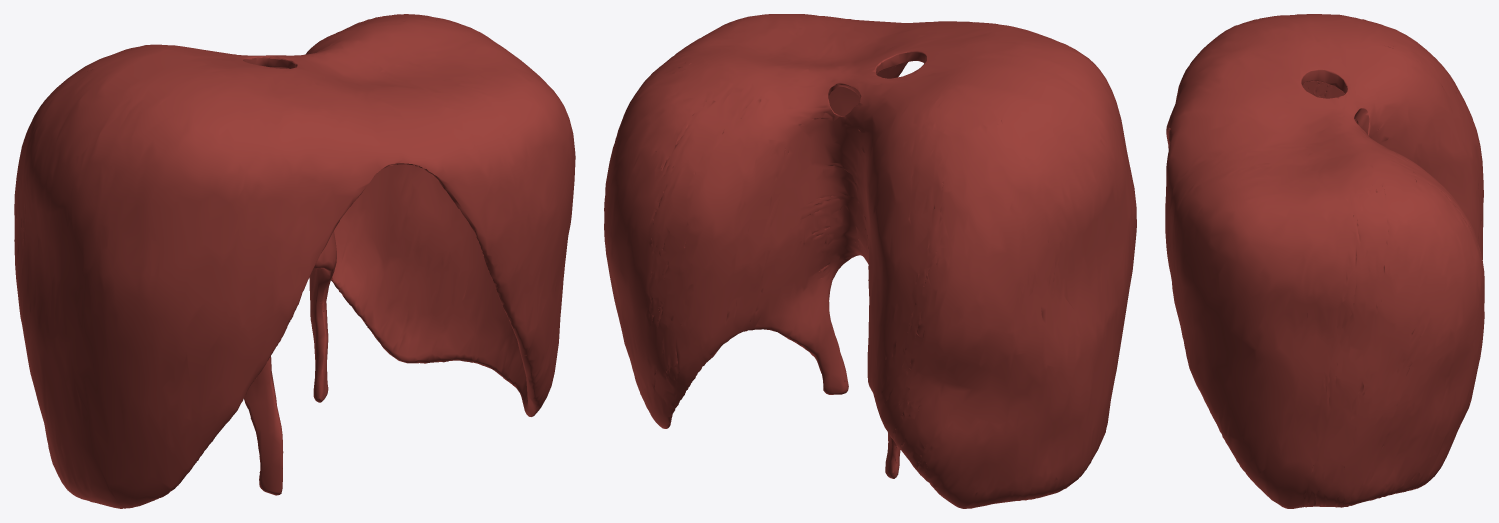
File: explorar-diaphragm.glb
3 views of the same model, side by side, from view 1: azimuth 30°, elevation 25°; view 2: azimuth 150°, elevation 25°; view 3: azimuth 270°, elevation 25° (orthographic). The views are drawn at different scales.
Parts seen in each view (by area): view 1: diaphragm__cupula_derecha, diaphragm__cupula_izquierda, diaphragm__centro_tendinoso; view 2: diaphragm__cupula_derecha, diaphragm__cupula_izquierda, diaphragm__centro_tendinoso; view 3: diaphragm__cupula_izquierda, diaphragm__cupula_derecha, diaphragm__centro_tendinoso.
Part boxes in pixels (x1=…): diaphragm__cupula_derecha: x1=14, y1=44, x2=400, y2=508; diaphragm__cupula_izquierda: x1=284, y1=14, x2=575, y2=416; diaphragm__centro_tendinoso: x1=253, y1=58, x2=446, y2=141; diaphragm__cupula_derecha: x1=844, y1=24, x2=1136, y2=508; diaphragm__cupula_izquierda: x1=604, y1=14, x2=907, y2=428; diaphragm__centro_tendinoso: x1=811, y1=21, x2=1002, y2=74; diaphragm__cupula_izquierda: x1=1165, y1=100, x2=1484, y2=508; diaphragm__cupula_derecha: x1=1166, y1=14, x2=1483, y2=259; diaphragm__centro_tendinoso: x1=1184, y1=51, x2=1337, y2=156.
Bounding box in the file's own units: 0.2434 × 0.2163 × 0.1642.
